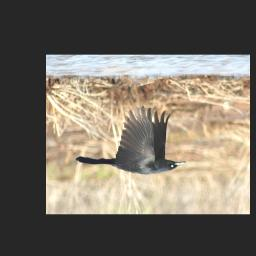Crow: (75, 105, 187, 175)
